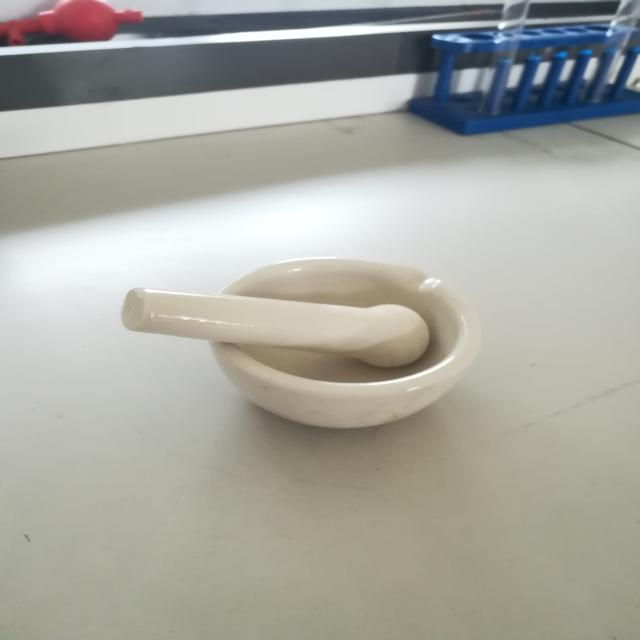Porcelain_Mortar Pestle: (56, 215, 512, 452)
